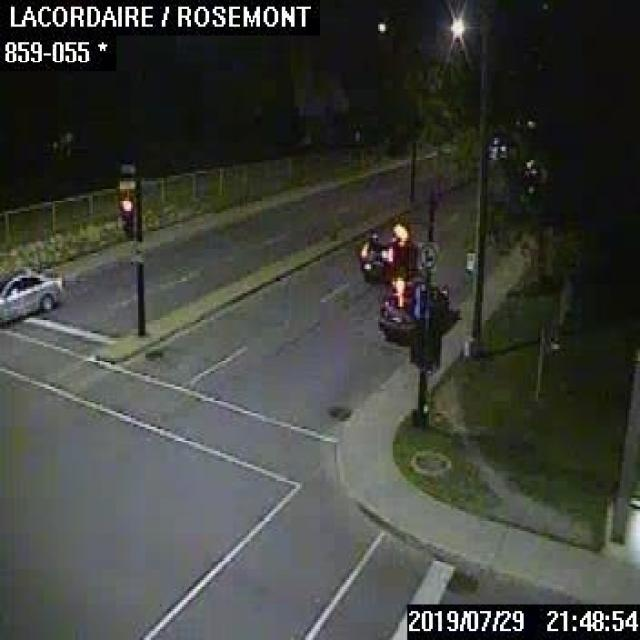vehicle: (378, 278, 448, 339), (0, 267, 60, 322), (358, 230, 416, 279)
